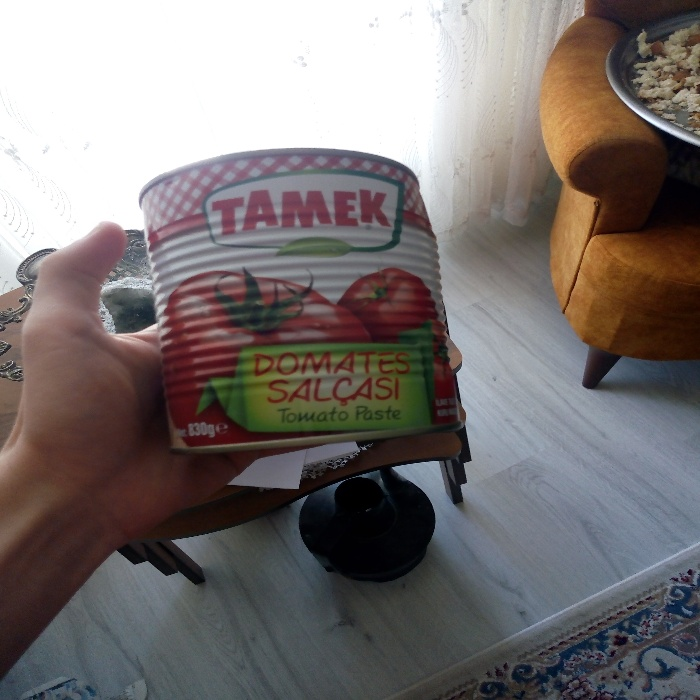salca: (126, 111, 475, 462)
